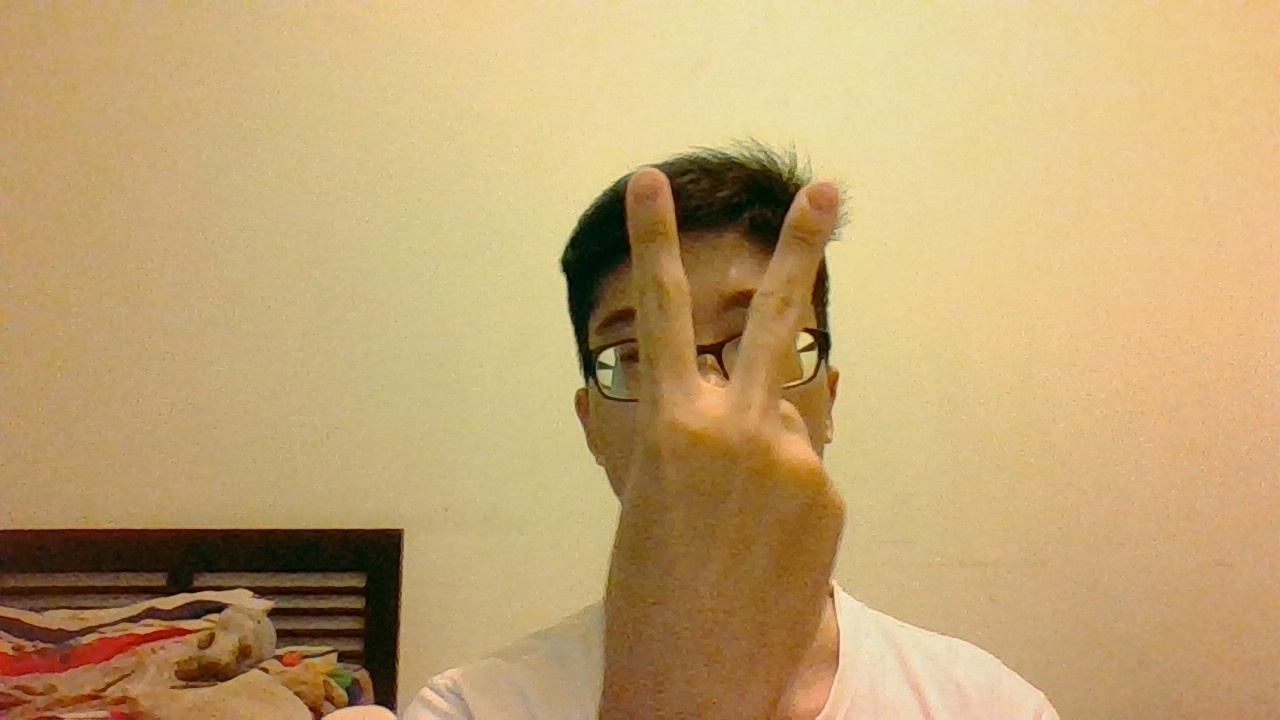Thanks: (604, 165, 849, 716)
